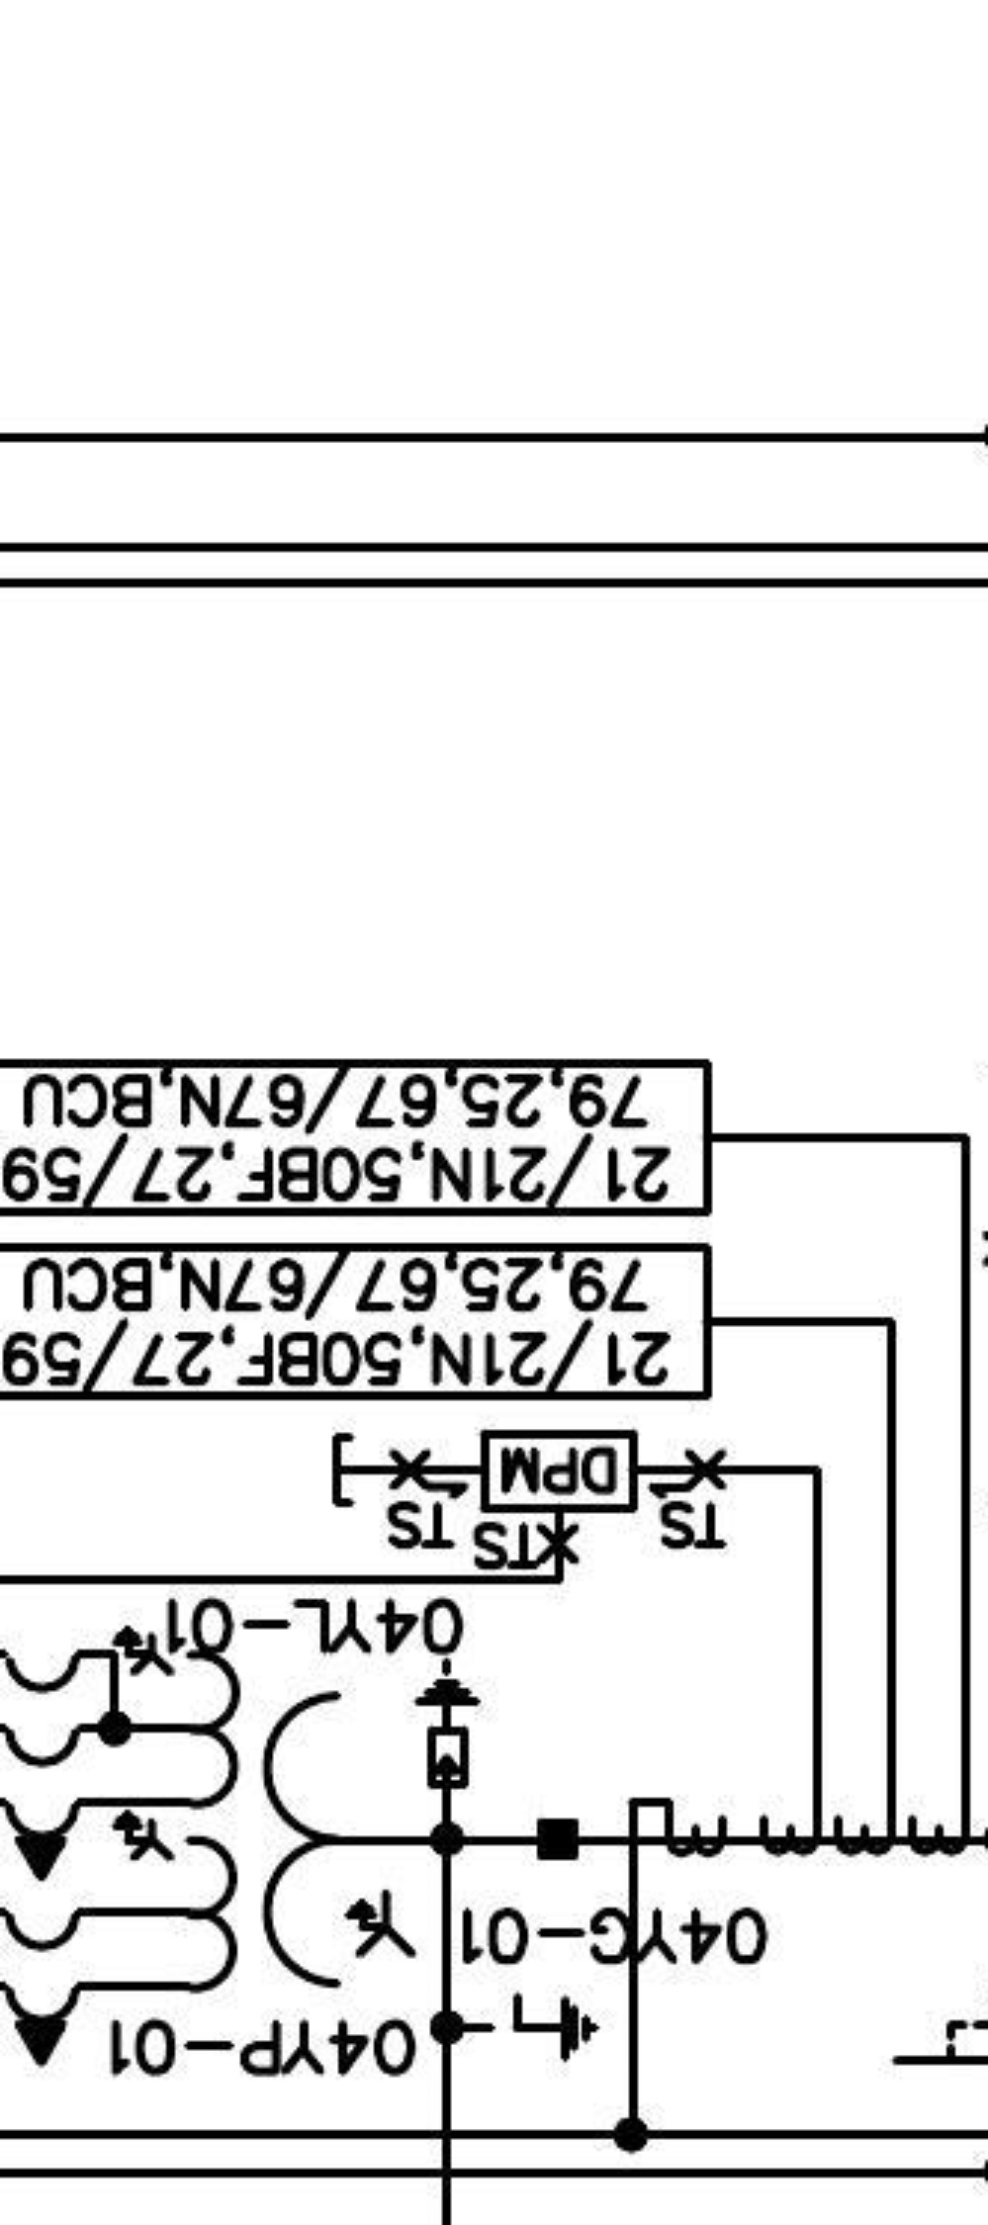115_gs: (483, 1990, 604, 2065)
115_la: (412, 1655, 485, 1790)
115_vt_3p: (1, 1624, 420, 2069)
DPM: (481, 1428, 640, 1513)
